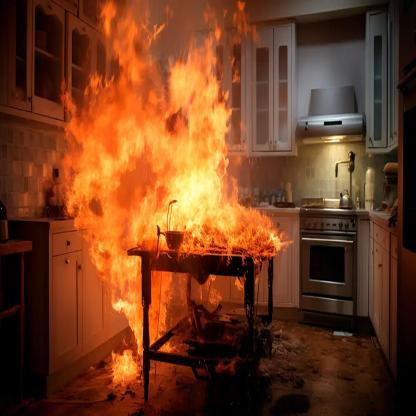fire: (63, 0, 297, 393)
